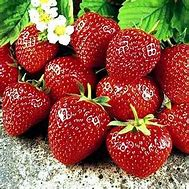Fresa: (48, 93, 110, 167), (107, 120, 174, 175), (105, 25, 161, 85), (97, 71, 162, 122), (69, 11, 121, 71), (3, 78, 51, 137), (44, 54, 98, 99), (13, 24, 59, 76), (153, 42, 189, 104)
